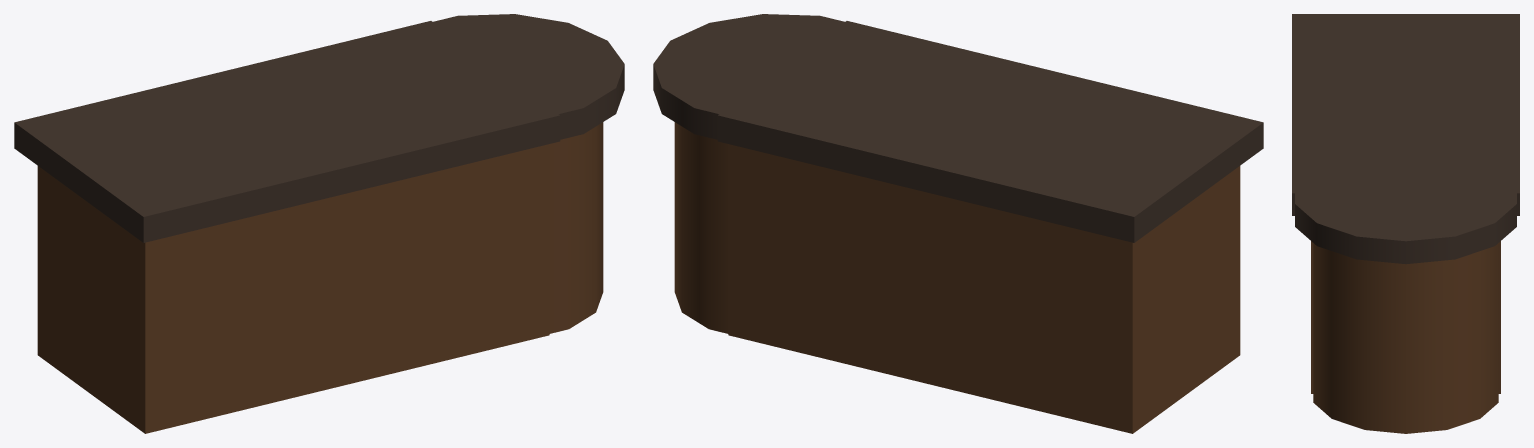
The model's file is cantina_bar_end.glb.
3 renders of one model, left to right at view 1: azimuth 30°, elevation 25°; view 2: azimuth 150°, elevation 25°; view 3: azimuth 270°, elevation 25°, orthographic. The views are drawn at different scales.
Visible parts, largest first — view 1: sw5e_int_cantina_bar_end; view 2: sw5e_int_cantina_bar_end; view 3: sw5e_int_cantina_bar_end.
Part boxes in pixels (x1=…): sw5e_int_cantina_bar_end: x1=14, y1=14, x2=624, y2=433; sw5e_int_cantina_bar_end: x1=653, y1=14, x2=1263, y2=433; sw5e_int_cantina_bar_end: x1=1292, y1=14, x2=1519, y2=433.
Bounding box in the file's own units: 1.7 × 0.7 × 0.72.
